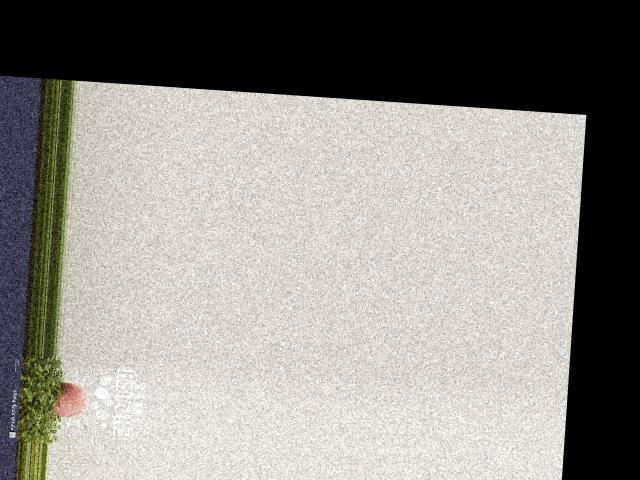egg: (53, 380, 89, 417)
